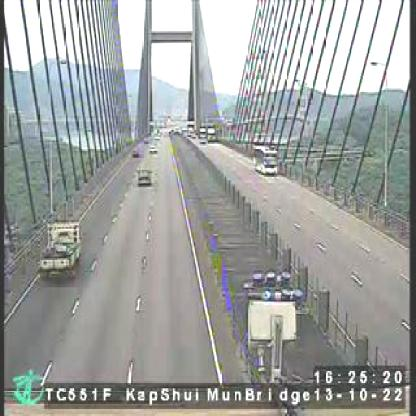Bus: (254, 144, 278, 176)
Car: (137, 168, 153, 186)
Truck: (40, 215, 83, 278)
